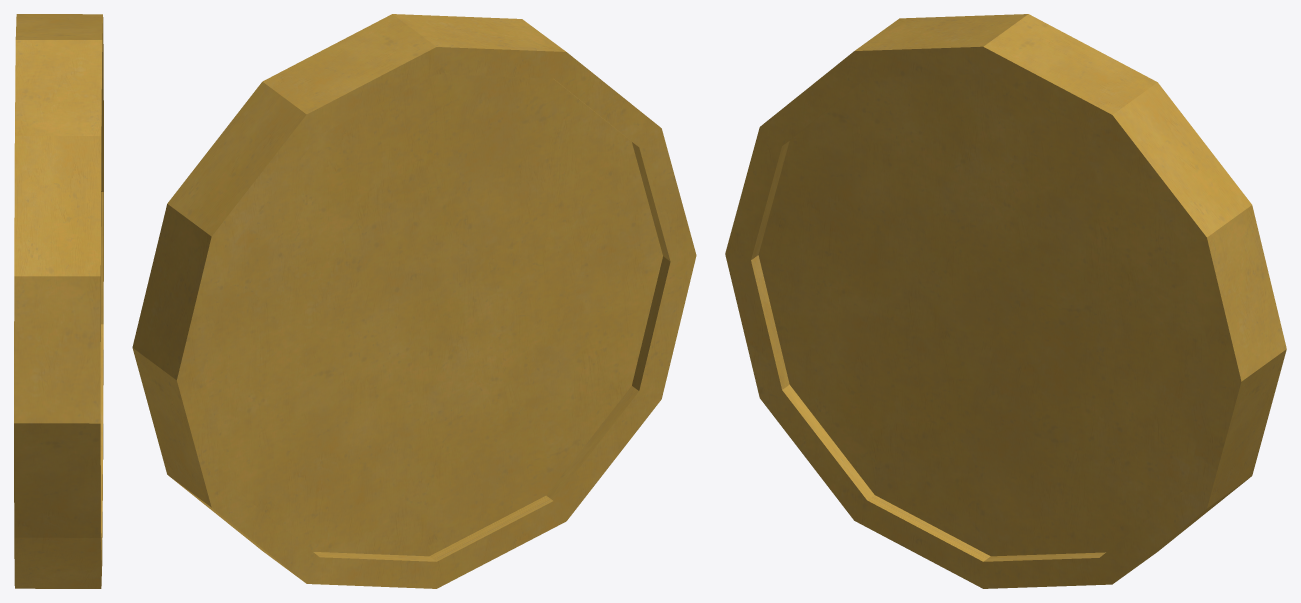
Rendered from coin.fbx.
The picture shows the model from 3 angles, left to right: view 1: azimuth 30°, elevation 25°; view 2: azimuth 150°, elevation 25°; view 3: azimuth 270°, elevation 25°; orthographic projection. The views are drawn at different scales.
Visible parts, largest first — view 1: Coin; view 2: Coin; view 3: Coin.
Part boxes in pixels (x1,y1,x2,y2): Coin: [14, 14, 103, 588]; Coin: [132, 14, 696, 588]; Coin: [725, 14, 1286, 588].
Bounding box in the file's own units: 127 × 200 × 188.
